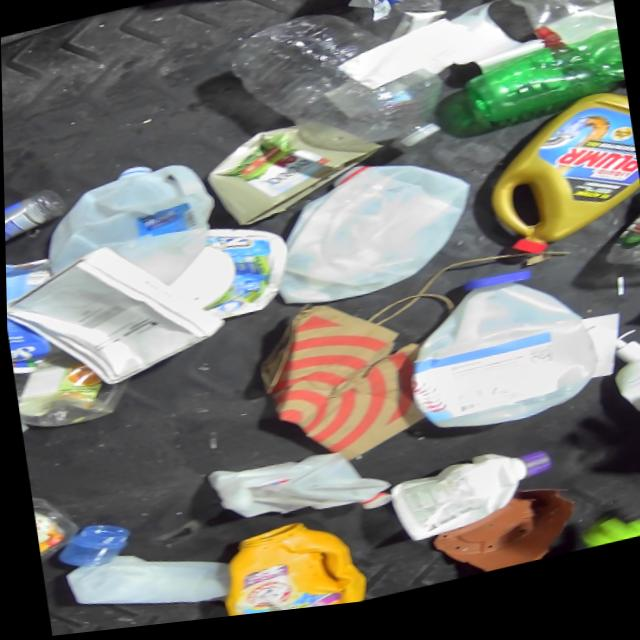milk_jug: (399, 263, 599, 455), (274, 143, 489, 315), (51, 155, 216, 290), (378, 447, 556, 558), (202, 446, 394, 543)
non_white_jug: (471, 102, 640, 279), (208, 522, 367, 623)
plastic_bottle: (222, 0, 459, 201), (512, 0, 618, 71)
